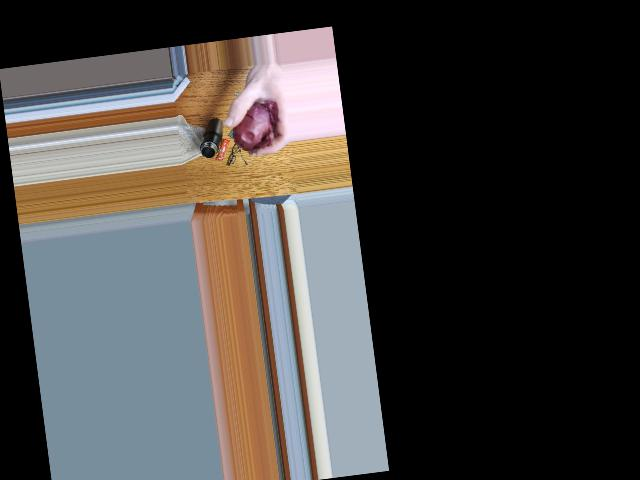onion: (230, 95, 278, 152)
